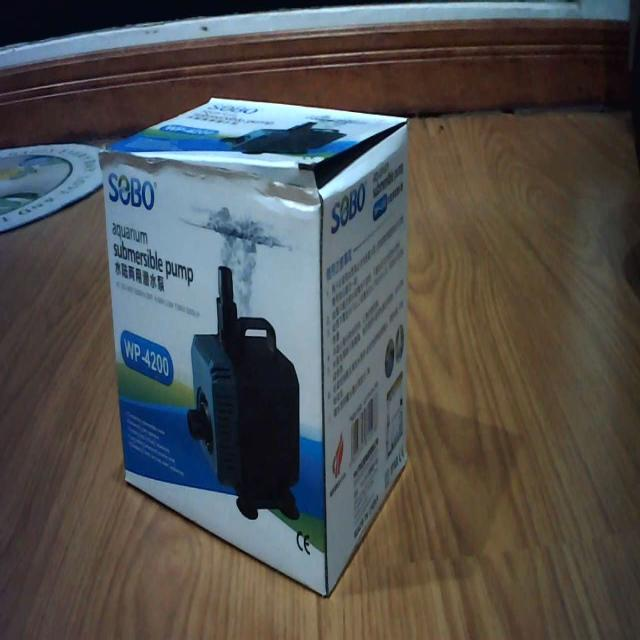SOBO_WP_4200: (97, 92, 411, 598)
